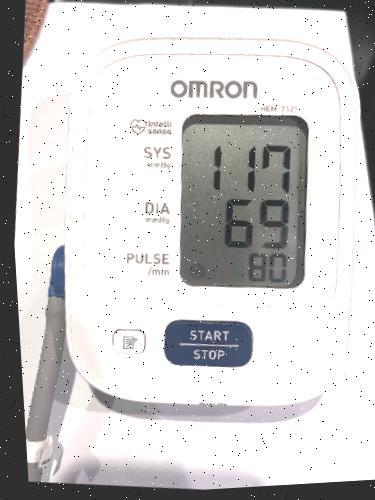bpm: (171, 109, 314, 291)
